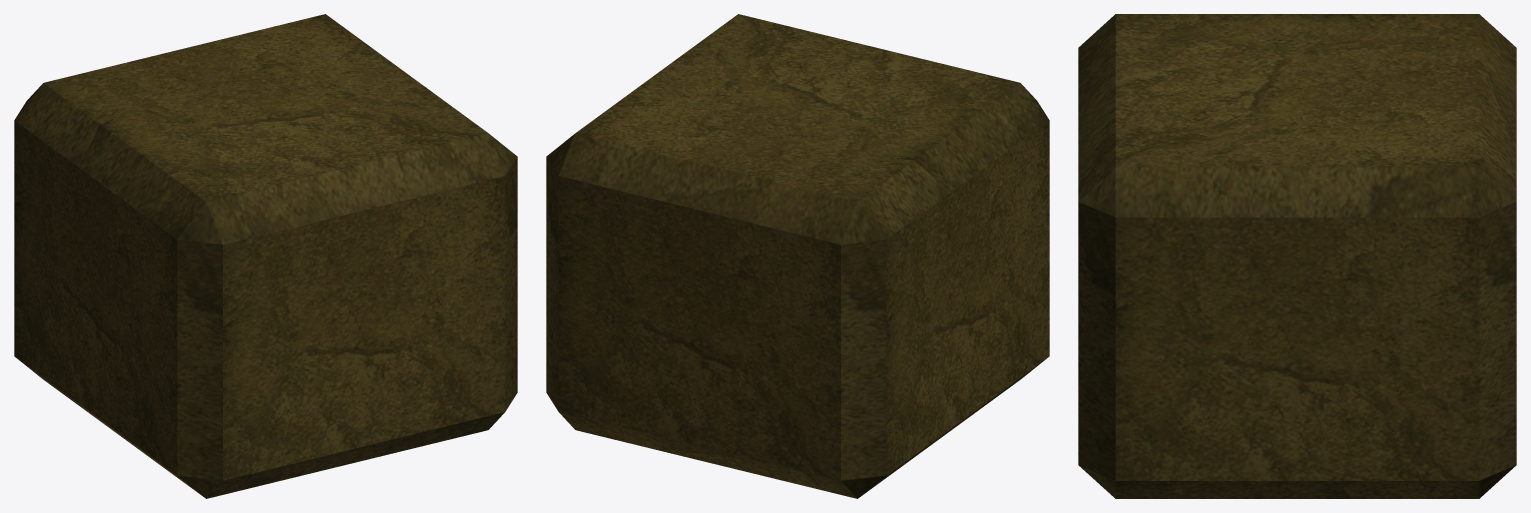
File: bloque_piedra.FBX
3 renders of one model, left to right at view 1: azimuth 30°, elevation 25°; view 2: azimuth 150°, elevation 25°; view 3: azimuth 270°, elevation 25°, orthographic. The views are drawn at different scales.
Parts seen in each view (by area): view 1: ChamferBox001; view 2: ChamferBox001; view 3: ChamferBox001.
Part boxes in pixels (x1,y1,x2,y2): ChamferBox001: [14, 14, 517, 498]; ChamferBox001: [546, 14, 1049, 498]; ChamferBox001: [1078, 14, 1516, 498].
Bounding box in the file's own units: 1200 × 1000 × 1200.
Materials: 1 (1 with a texture image).
